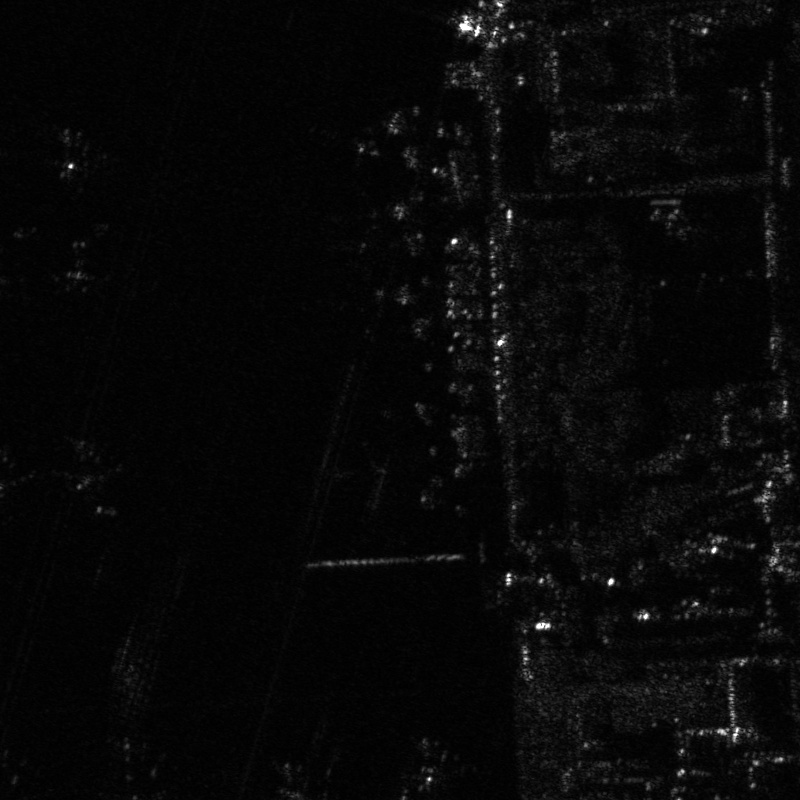A220: (48, 435, 128, 507)
ARJ21: (51, 238, 113, 299)
other: (34, 124, 110, 197), (1, 442, 43, 517)
